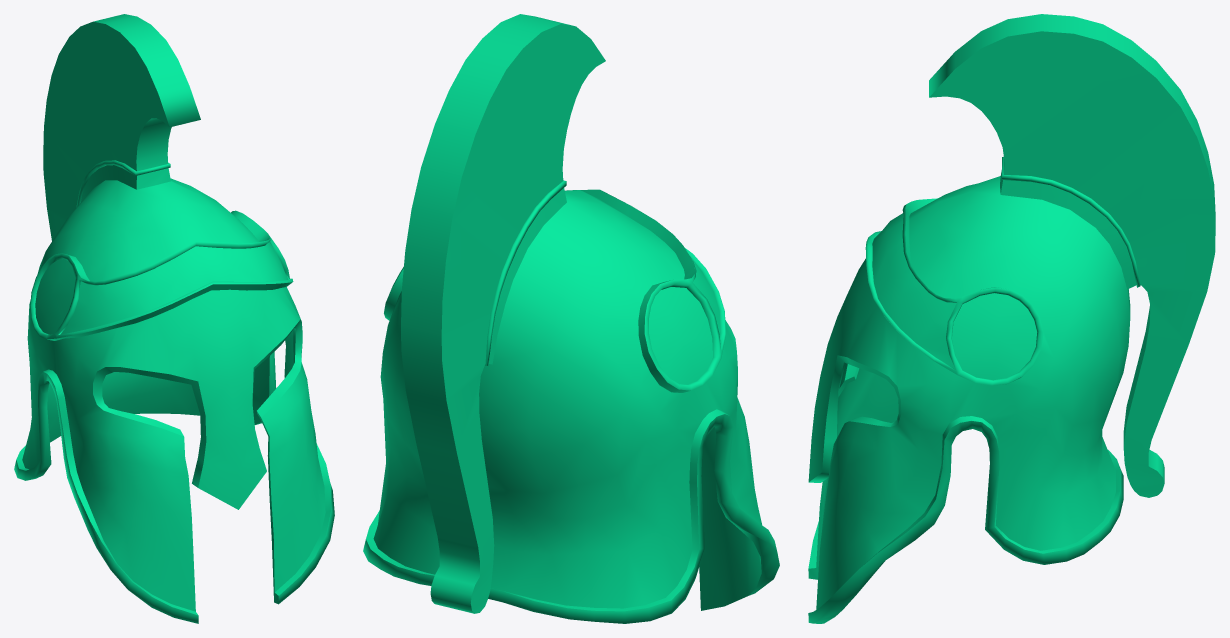
Rendered from helmet.fbx.
3 renders of one model, left to right at view 1: azimuth 30°, elevation 25°; view 2: azimuth 150°, elevation 25°; view 3: azimuth 270°, elevation 25°, orthographic. The views are drawn at different scales.
Visible parts, largest first — view 1: sparta_low; view 2: sparta_low; view 3: sparta_low.
Boxes of the visible parts, x1,y1,x2,y2 form: sparta_low: [14, 14, 334, 623]; sparta_low: [363, 14, 779, 623]; sparta_low: [808, 14, 1215, 623].
Bounding box in the file's own units: 19.99 × 40.46 × 25.78.
